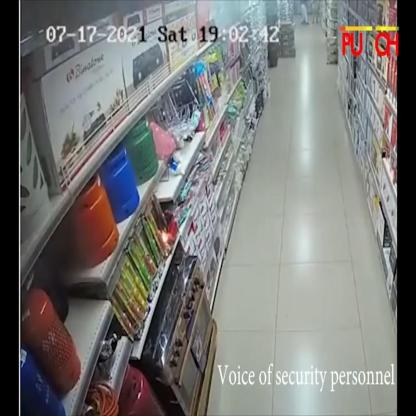fire: (161, 228, 168, 243)
